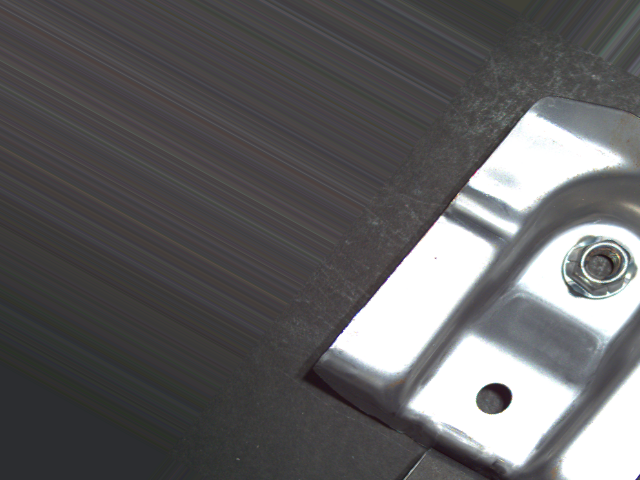good: (559, 231, 639, 306)
